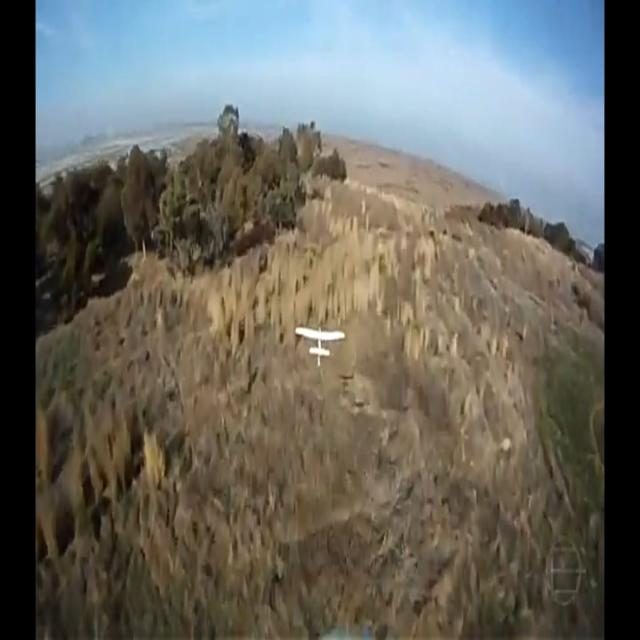iha: (295, 324, 345, 366)
